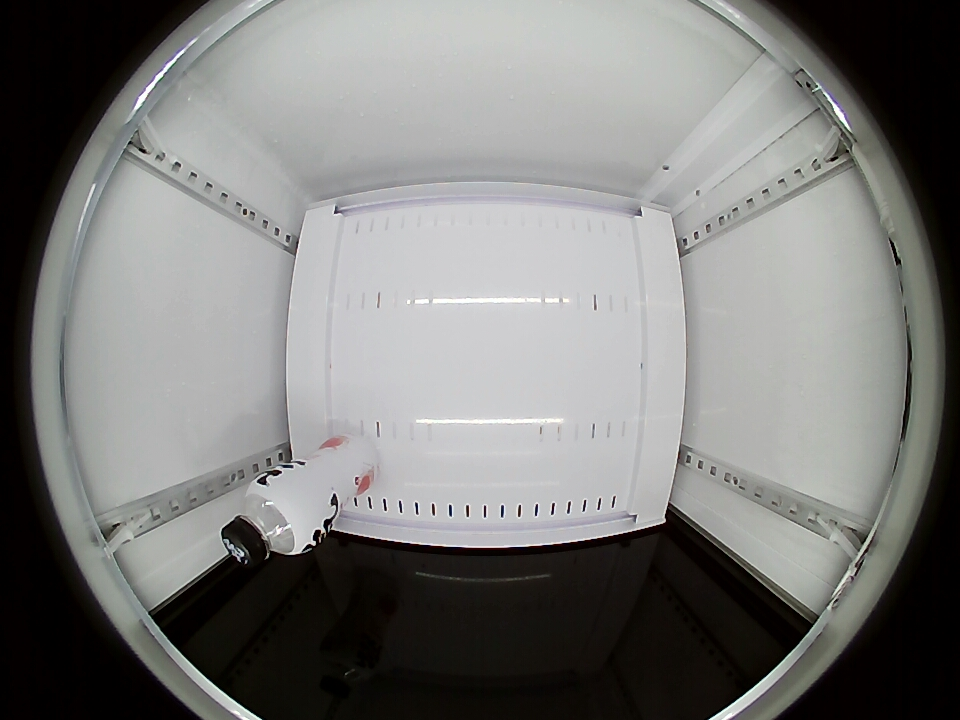yuanqishui: (220, 474, 323, 567)
